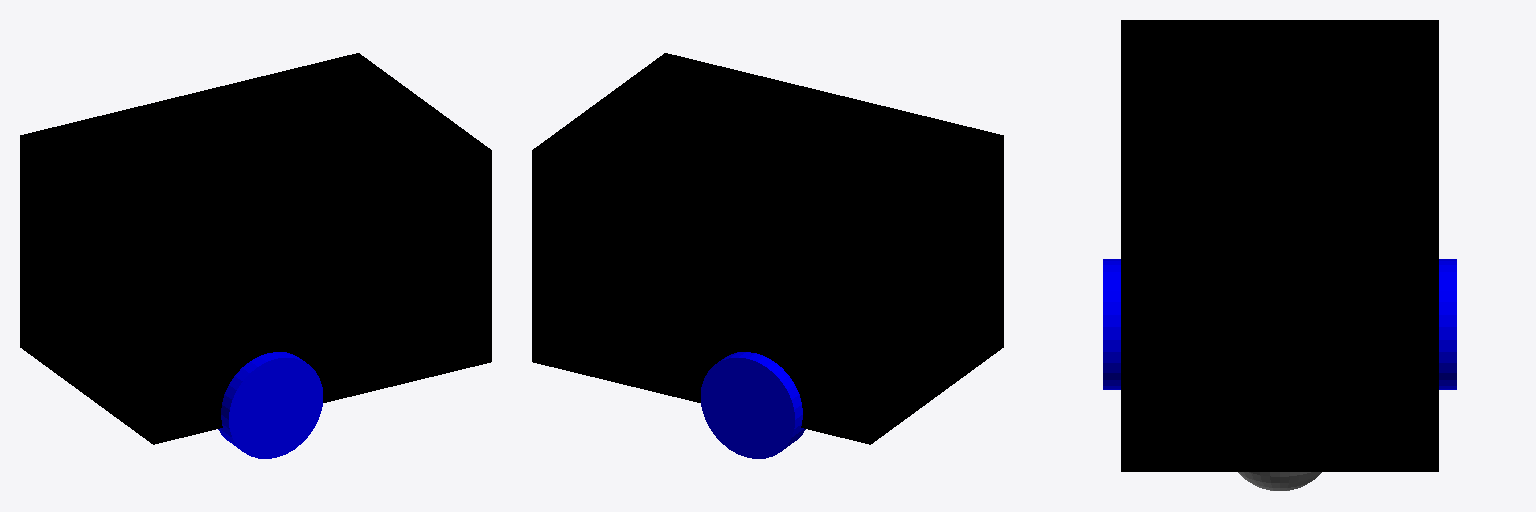
URDF robot description (unicycle):
<?xml version="1.0"?>
<robot name="unicycle">

  <!-- Corpo parallelepipedo -->
  <link name="base_link">
    <visual>
      <geometry>
        <box size="0.25 0.17 0.15"/> <!-- LxWxH -->
      </geometry>
      <origin xyz="0.04 0 0.10" rpy="0 0 0"/> <!-- 2.5 cm + metà altezza = 10 cm -->
      <material name="semi_black">
        <color rgba="0 0 0 0.75"/> <!-- trasparente -->
      </material>
    </visual>
  </link>

  <!-- Ruota sinistra -->
  <link name="left_wheel">
    <visual>
      <geometry>
        <cylinder length="0.02" radius="0.035"/>
      </geometry>
      <origin xyz="0.00 0.085 0.035" rpy="1.5708 0 0"/>
      <material name="blue">
        <color rgba="0.0 0.0 1.0 1.0"/>
      </material>
    </visual>
  </link>

  <!-- Ruota destra -->
  <link name="right_wheel">
    <visual>
      <geometry>
        <cylinder length="0.02" radius="0.035"/>
      </geometry>
      <origin xyz="0.00 -0.085 0.035" rpy="1.5708 0 0"/>
      <material name="blue">
        <color rgba="0.0 0.0 1.0 1.0"/>
      </material>
    </visual>
  </link>

  <!-- Sfera frontale -->
  <link name="front_ball">
    <visual>
      <geometry>
        <sphere radius="0.03"/>
      </geometry>
      <origin xyz="0.13 0 0.03" rpy="0 0 0"/>
      <material name="gray">
        <color rgba="0.5 0.5 0.5 1.0"/>
      </material>
    </visual>
  </link>

  <!-- Giunti fissi -->
  <joint name="left_wheel_joint" type="fixed">
    <parent link="base_link"/>
    <child link="left_wheel"/>
    <origin xyz="0 0 0" rpy="0 0 0"/>
  </joint>

  <joint name="right_wheel_joint" type="fixed">
    <parent link="base_link"/>
    <child link="right_wheel"/>
    <origin xyz="0 0 0" rpy="0 0 0"/>
  </joint>

  <joint name="front_ball_joint" type="fixed">
    <parent link="base_link"/>
    <child link="front_ball"/>
    <origin xyz="0 0 0" rpy="0 0 0"/>
  </joint>

</robot>

--- Facts derived from the render (not from the file) ---
Views: 3 orthographic renders of the robot side by side, from view 1: azimuth 30°, elevation 25°; view 2: azimuth 150°, elevation 25°; view 3: azimuth 270°, elevation 25°.
Robot: unicycle — 4 links, 3 joints (3 fixed); root link base_link; default pose: all joints at 0.
Links seen in each view (by area): view 1: base_link, right_wheel; view 2: base_link, left_wheel; view 3: base_link, left_wheel, right_wheel, front_ball.
Link boxes in pixels (x1,y1,x2,y2): base_link: (20, 53, 491, 444); right_wheel: (218, 352, 322, 458); base_link: (532, 53, 1003, 444); left_wheel: (701, 352, 805, 458); base_link: (1121, 20, 1438, 471); left_wheel: (1439, 259, 1456, 389); right_wheel: (1103, 259, 1120, 389); front_ball: (1238, 472, 1321, 490).
Bounding box of the posed robot: 0.25 × 0.19 × 0.175 m (x, y, z).
Geometry: primitives only (box / cylinder / sphere), no mesh files.
